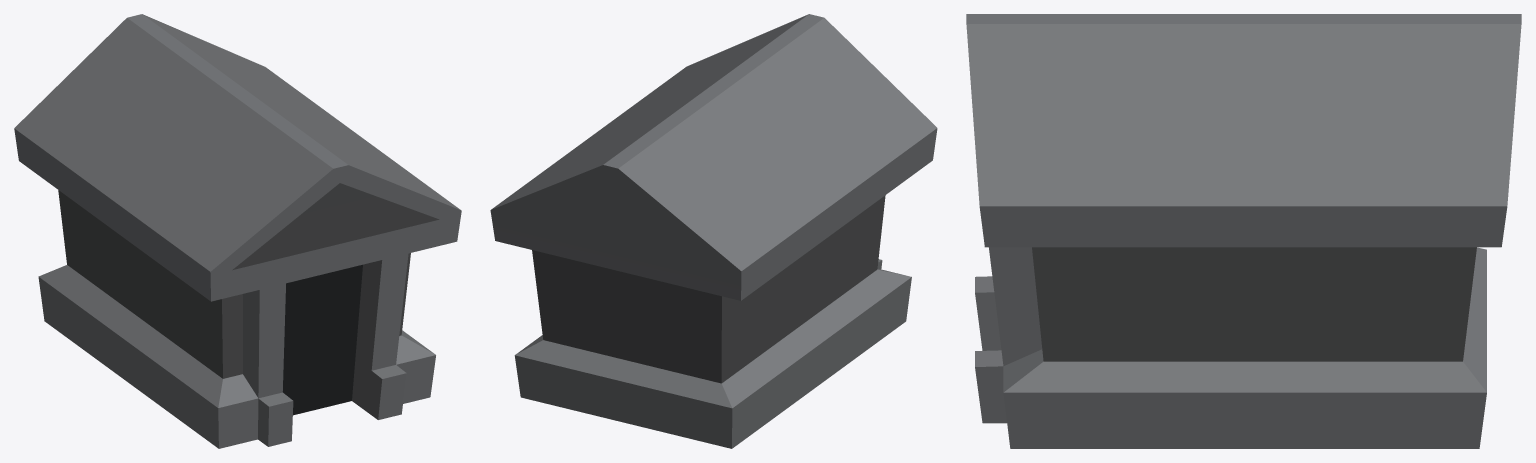
File: SM_Bld_Dungeon_Crypt_01.glb
3 views of the same model, side by side, from view 1: azimuth 30°, elevation 25°; view 2: azimuth 150°, elevation 25°; view 3: azimuth 270°, elevation 25° (orthographic). The views are drawn at different scales.
Parts seen in each view (by area): view 1: SM_Bld_Dungeon_Crypt_01; view 2: SM_Bld_Dungeon_Crypt_01; view 3: SM_Bld_Dungeon_Crypt_01.
Boxes of the visible parts, x1,y1,x2,y2 form: SM_Bld_Dungeon_Crypt_01: [14, 14, 461, 448]; SM_Bld_Dungeon_Crypt_01: [490, 14, 937, 448]; SM_Bld_Dungeon_Crypt_01: [966, 14, 1521, 448].
Bounding box in the file's own units: 0.6145 × 0.6266 × 0.8742.
1 material, 1 textured.
